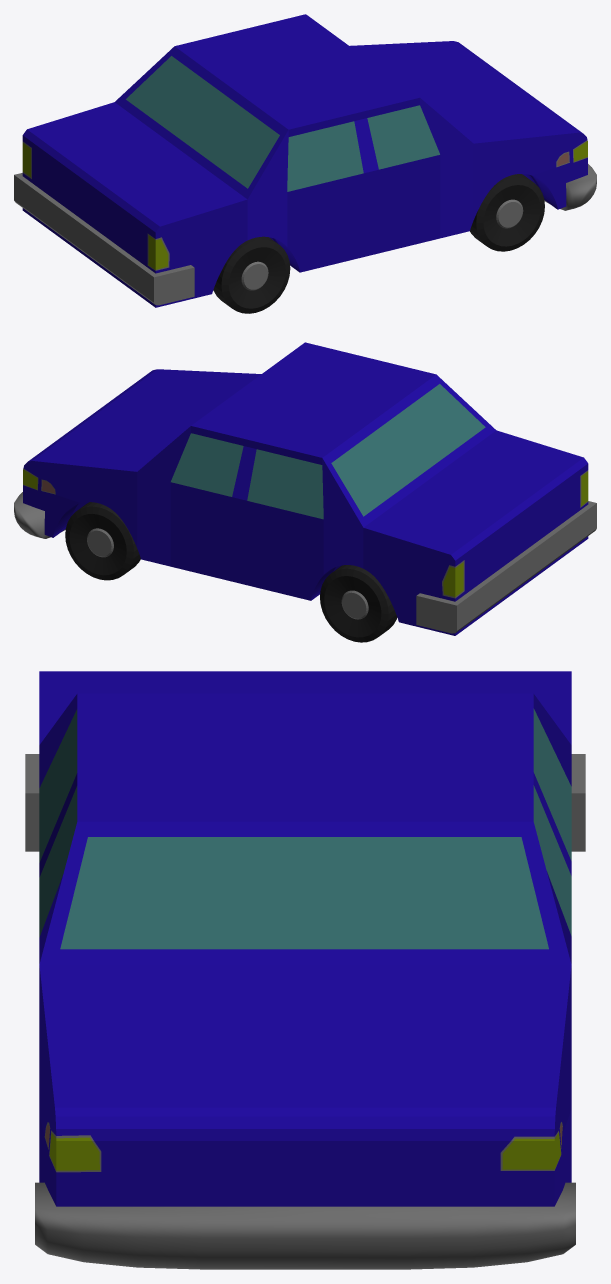
File: auto azul.fbx
The picture shows the model from 3 angles, top to bottom: view 1: azimuth 30°, elevation 25°; view 2: azimuth 150°, elevation 25°; view 3: azimuth 270°, elevation 25°; orthographic projection. The views are drawn at different scales.
Visible parts, largest first — view 1: Cube, Cylinder, Cube.002; view 2: Cube, Cylinder, Cube.002; view 3: Cube, Cube.002.
Boxes of the visible parts, x1,y1,x2,y2 form: Cube: [22, 14, 587, 307]; Cylinder: [213, 174, 544, 313]; Cube.002: [14, 164, 596, 305]; Cube: [23, 342, 588, 635]; Cylinder: [65, 502, 397, 642]; Cube.002: [14, 492, 596, 633]; Cube: [39, 671, 571, 1206]; Cube.002: [25, 754, 585, 1269].
Bounding box in the file's own units: 396 × 211 × 140.
